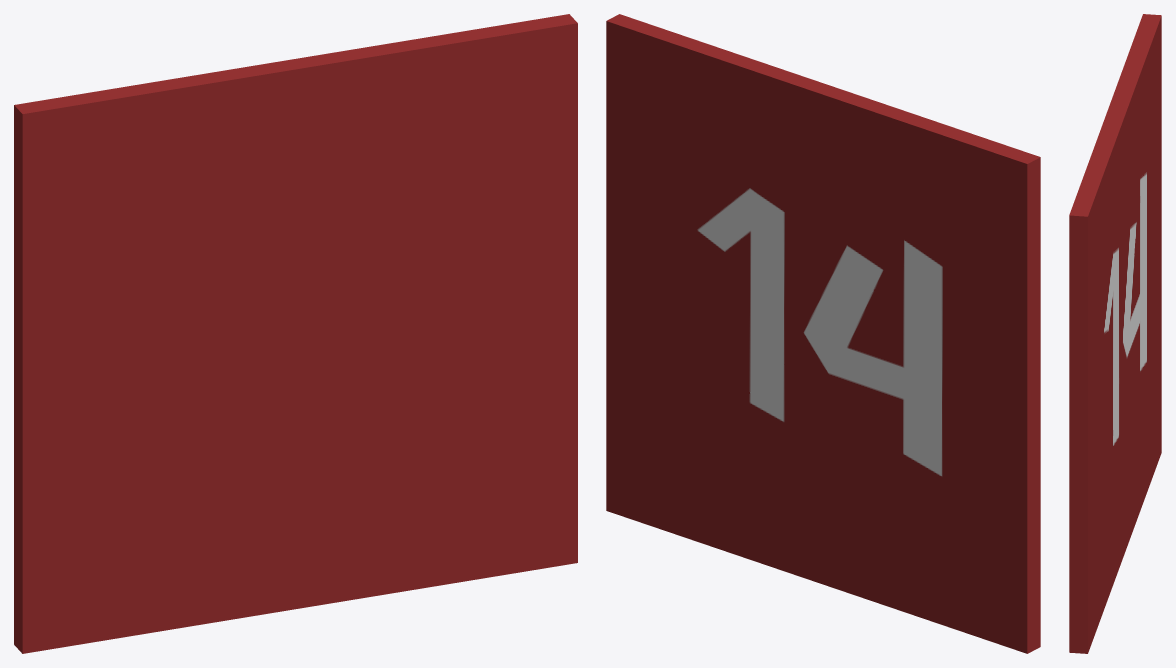
The model's file is flap13.glb.
3 views of the same model, side by side, from view 1: azimuth 30°, elevation 25°; view 2: azimuth 150°, elevation 25°; view 3: azimuth 270°, elevation 25° (orthographic). The views are drawn at different scales.
Parts seen in each view (by area): view 1: flap.013; view 2: flap.013; view 3: flap.013.
Boxes of the visible parts, x1,y1,x2,y2 form: flap.013: (14,14,577,653); flap.013: (606,14,1040,653); flap.013: (1069,14,1161,653).
Size of the model in its own units: 0.2486 by 0.25 by 0.048.
Materials: 1 (1 with a texture image).
